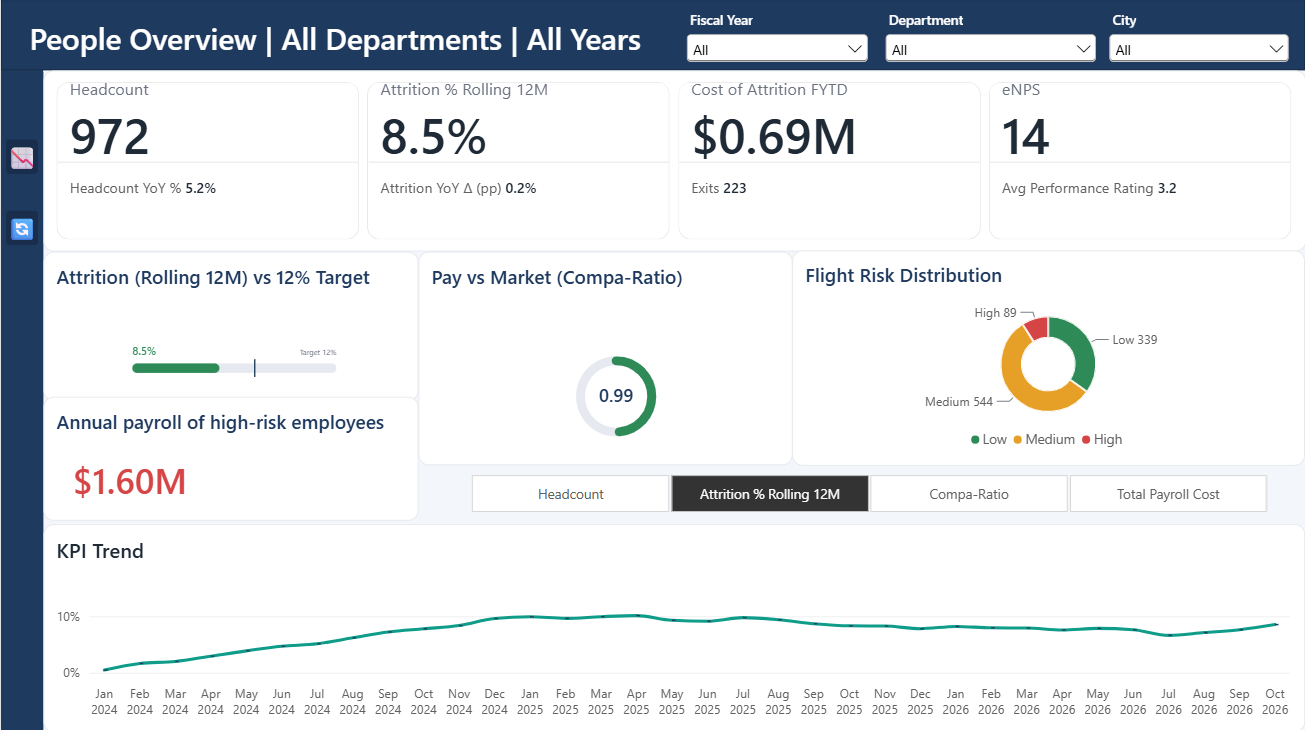

The dashboard page shown, as its layout file describes it:
{"tool":"powerbi","page":{"name":"Executive Summary","canvas":[1280,720],"ordinal":0},"visuals":[{"type":"shape","box":[0,69.9,41.7,650.3],"z":0},{"type":"shape","box":[0,0,1280.3,70.9],"z":1000},{"type":"cardVisual","fields":{"Data":["_Measures.Dynamic Title"]},"box":[0,9,930,60],"z":2000},{"type":"slicer","fields":{"Values":["Dim_Date.FiscalYear"]},"box":[656.4,1.2,211,256.4],"z":3000},{"type":"slicer","fields":{"Values":["Dim_Department.DepartmentName"]},"box":[851.5,1.2,240.5,67.5],"z":4000},{"type":"slicer","fields":{"Values":["Dim_Location.City"]},"box":[1070.8,1.2,210.2,65.8],"z":5000},{"type":"cardVisual","fields":{"Data":["_Measures.Headcount","_Measures.Attrition % Rolling 12M","_Measures.Cost of Attrition FYTD","_Measures.eNPS"]},"box":[41.7,71.2,1239.3,177.9],"z":6000},{"type":"tableEx","title":"Attrition (Rolling 12M) vs 12% Target","fields":{"Values":["_Measures.SVG Attrition Bar"]},"box":[41.7,249.1,368.1,146],"z":7000},{"type":"tableEx","title":"Pay vs Market (Compa-Ratio)","fields":{"Values":["_Measures.SVG Compa-Ratio Gauge"]},"box":[409.8,249.1,366.9,209.8],"z":8000},{"type":"cardVisual","title":"Annual payroll of high-risk employees","fields":{"Data":["_Measures.Payroll at Risk (USD)"]},"box":[41.7,391.4,368.1,121.5],"z":9000},{"type":"donutChart","title":"Flight Risk Distribution","fields":{"Category":["Risk Band.Band"],"Y":["_Measures.Employees by Risk Band"]},"box":[776.7,247.9,503.1,211],"z":10000},{"type":"slicer","fields":{"Values":["KPI Selector.KPI Selector"]},"box":[429.5,456.4,844.2,60.1],"z":11000},{"type":"lineChart","title":"KPI Trend","fields":{"Category":["Dim_Date.YearMonth"],"Y":["_Measures.Attrition % Rolling 12M"]},"box":[41.7,512.9,1238,203.7],"z":12000},{"type":"actionButton","box":[0,133.7,41.7,44.2],"z":13000},{"type":"actionButton","box":[0,203.1,41.7,44.2],"z":14000}]}

Visuals, with their boxes in screenshot pixels (x1, y1, x2, y2), scaled from the page's 1280x720 canvas onto the 1305x730 screenshot:
shape: (0,71,43,729)
shape: (0,0,1304,72)
cardVisual - _Measures.Dynamic Title: (0,9,948,70)
slicer - Dim_Date.FiscalYear: (669,1,884,261)
slicer - Dim_Department.DepartmentName: (868,1,1113,70)
slicer - Dim_Location.City: (1092,1,1304,68)
cardVisual - _Measures.Headcount x _Measures.Attrition % Rolling 12M: (43,72,1304,253)
"Attrition (Rolling 12M) vs 12% Target" tableEx: (43,253,418,401)
"Pay vs Market (Compa-Ratio)" tableEx: (418,253,792,465)
"Annual payroll of high-risk employees" cardVisual: (43,397,418,520)
"Flight Risk Distribution" donutChart: (792,251,1304,465)
slicer - KPI Selector.KPI Selector: (438,463,1299,524)
"KPI Trend" lineChart: (43,520,1304,727)
actionButton: (0,136,43,180)
actionButton: (0,206,43,251)
